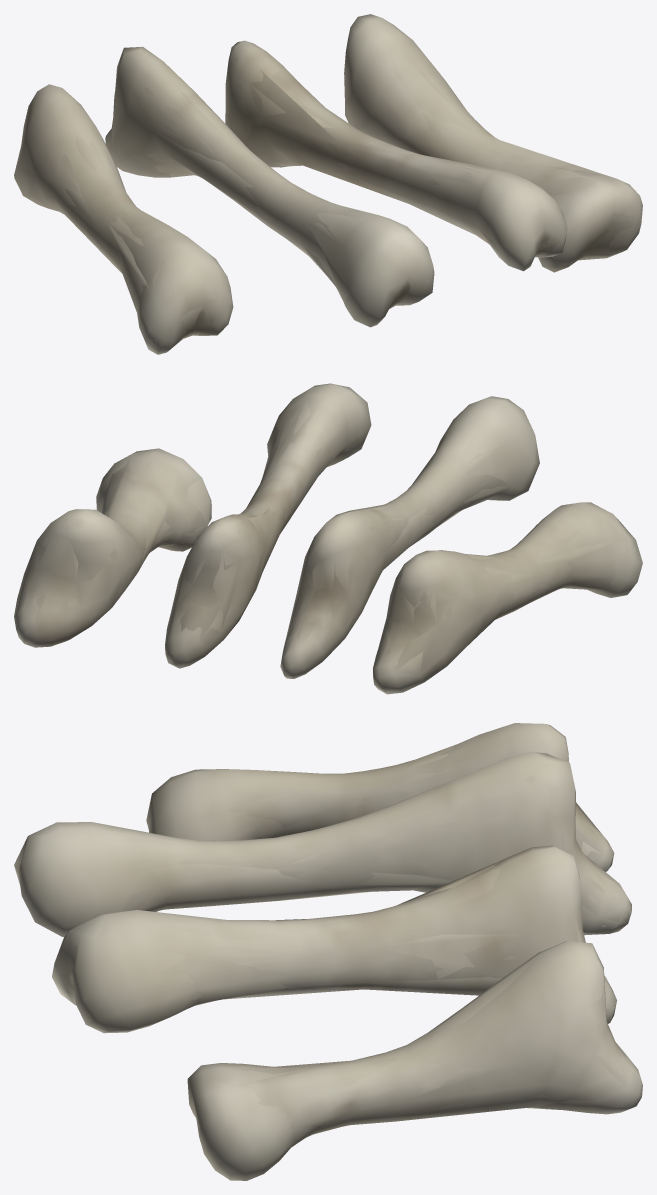
The model's file is LB 1st Phalanx.fbx.
The picture shows the model from 3 angles, top to bottom: view 1: azimuth 30°, elevation 25°; view 2: azimuth 150°, elevation 25°; view 3: azimuth 270°, elevation 25°; orthographic projection. The views are drawn at different scales.
Parts seen in each view (by area): view 1: LB 1st Phalanx, LB 1st Phalanx low, LB 1st Phalanx high; view 2: LB 1st Phalanx, LB 1st Phalanx low, LB 1st Phalanx high; view 3: LB 1st Phalanx, LB 1st Phalanx low, LB 1st Phalanx high.
Boxes of the visible parts, x1,y1,x2,y2 form: LB 1st Phalanx: (14, 14, 642, 354); LB 1st Phalanx low: (15, 15, 642, 354); LB 1st Phalanx high: (18, 24, 632, 343); LB 1st Phalanx: (14, 384, 642, 694); LB 1st Phalanx low: (14, 383, 642, 693); LB 1st Phalanx high: (20, 397, 635, 689); LB 1st Phalanx: (14, 723, 642, 1180); LB 1st Phalanx low: (16, 724, 638, 1179); LB 1st Phalanx high: (24, 733, 627, 1147).
Bounding box in the file's own units: 1.97 × 0.7152 × 1.76.
1 material, 1 textured.
